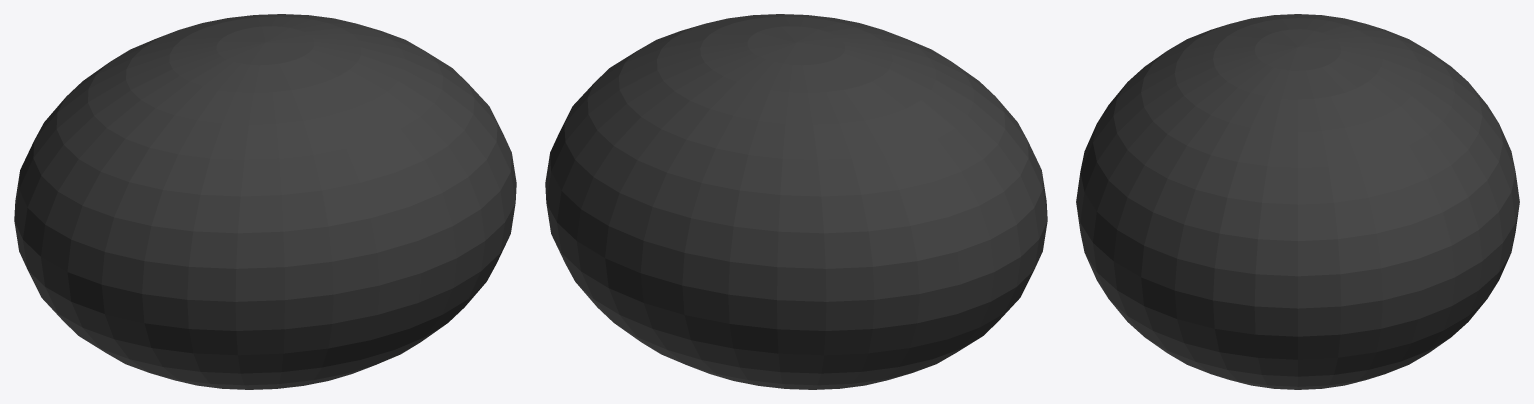
The model's file is Hill.fbx.
The picture shows the model from 3 angles, left to right: view 1: azimuth 30°, elevation 25°; view 2: azimuth 150°, elevation 25°; view 3: azimuth 270°, elevation 25°; orthographic projection. The views are drawn at different scales.
Parts seen in each view (by area): view 1: Sphere; view 2: Sphere; view 3: Sphere.
Part boxes in pixels (box(x1,y1,x2,y2)): Sphere: box(14, 14, 516, 389); Sphere: box(545, 14, 1047, 389); Sphere: box(1076, 14, 1519, 389).
Bounding box in the file's own units: 994 × 674 × 875.
1 material, 1 textured.
